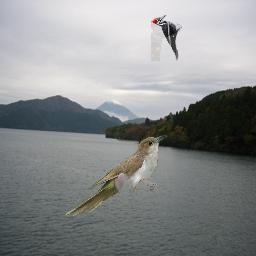Cuckoo: (65, 135, 167, 217)
Woodpecker: (151, 15, 182, 61)
